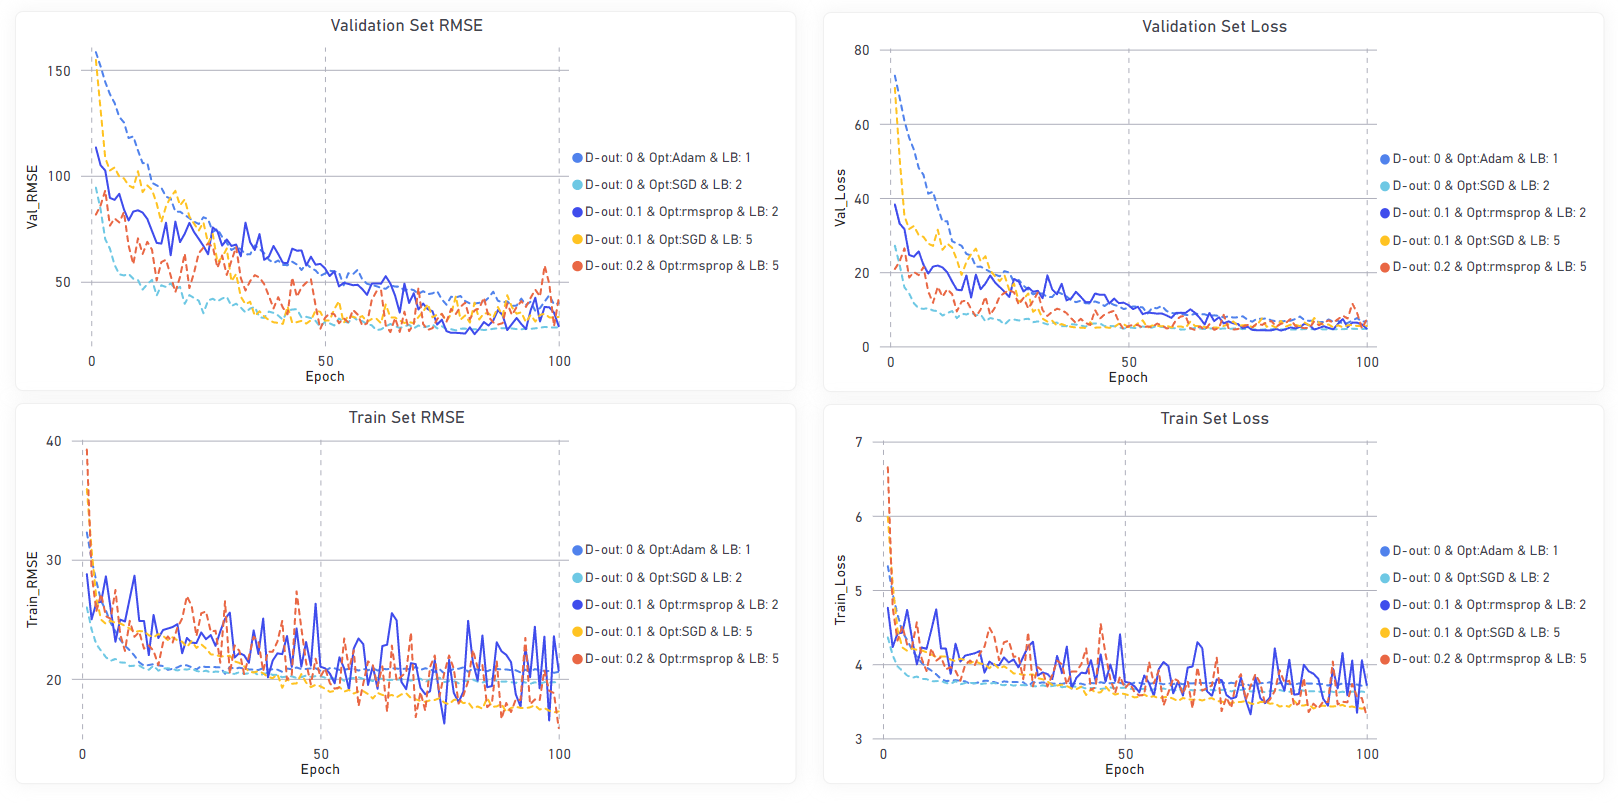

What the dashboard file says about the page in this screenshot:
{"tool":"powerbi","page":{"name":"LSTM_only_trading_volume_Predictor","canvas":[1600,800],"ordinal":7},"visuals":[{"type":"lineChart","title":"Valuation Set RMSE","fields":{"Category":["lstm_with_only_trading_volume.Epoch"],"Series":["lstm_with_only_trading_volume.Params"],"Y":["Sum(lstm_with_only_trading_volume.Val_RMSE)"]},"box":[25.1,16.4,940,373.3],"z":0},{"type":"lineChart","title":"Train Set RMSE","fields":{"Category":["lstm_with_only_trading_volume.Epoch"],"Series":["lstm_with_only_trading_volume.Params"],"Y":["Sum(lstm_with_only_trading_volume.Train_RMSE)"]},"box":[25.1,408.2,940,373.3],"z":1000},{"type":"lineChart","title":"Valuation Set Loss","fields":{"Category":["lstm_with_only_trading_volume.Epoch"],"Series":["lstm_with_only_trading_volume.Params"],"Y":["Sum(lstm_with_only_trading_volume.Val_Loss)"]},"box":[1477.8,16.4,104.8,373.3],"z":2000},{"type":"lineChart","title":"Train Set Loss","fields":{"Category":["lstm_with_only_trading_volume.Epoch"],"Series":["lstm_with_only_trading_volume.Params"],"Y":["Sum(lstm_with_only_trading_volume.Train_Loss)"]},"box":[1481,408.2,97.1,373.3],"z":3000}]}

Visuals, with their boxes in screenshot pixels (x1, y1, x2, y2), scaled from the page's 1600x800 canvas onto the 1618x803 screenshot:
"Valuation Set RMSE" lineChart: select_region(25, 16, 976, 391)
"Train Set RMSE" lineChart: select_region(25, 410, 976, 784)
"Valuation Set Loss" lineChart: select_region(1494, 16, 1600, 391)
"Train Set Loss" lineChart: select_region(1498, 410, 1596, 784)
